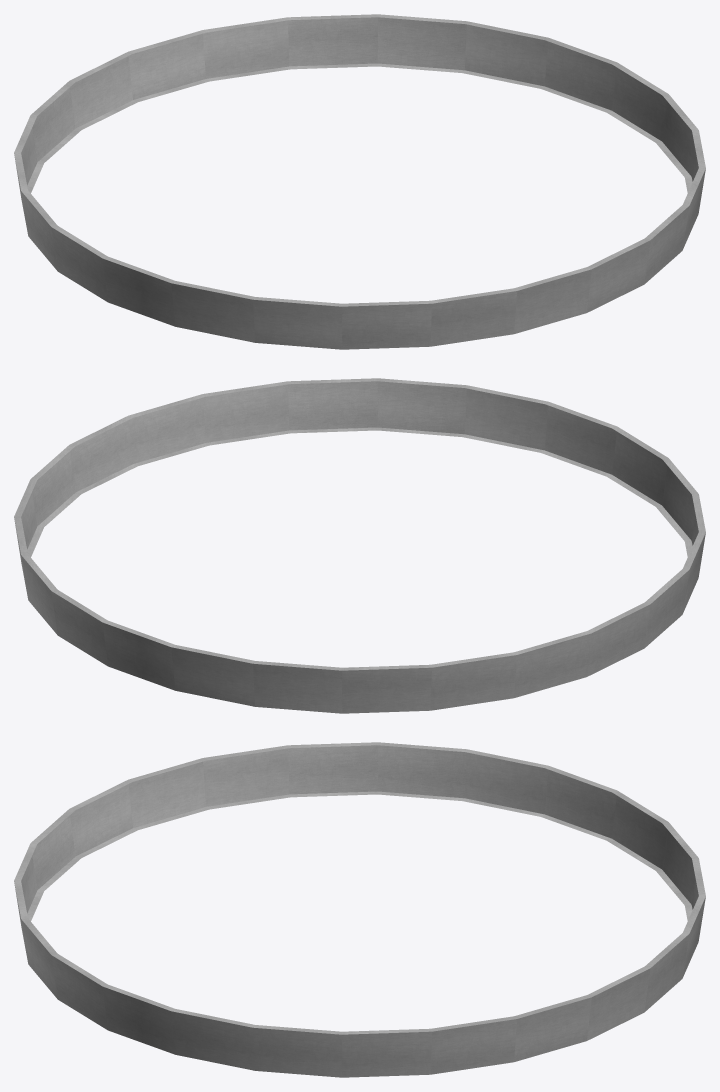
Rendered from original-9.obj.
The picture shows the model from 3 angles, top to bottom: view 1: azimuth 30°, elevation 25°; view 2: azimuth 150°, elevation 25°; view 3: azimuth 270°, elevation 25°; orthographic projection.
Visible parts, largest first — view 1: #ID75; view 2: #ID75; view 3: #ID75.
Boxes of the visible parts, x1,y1,x2,y2 form: #ID75: (14,14,705,349); #ID75: (14,378,705,713); #ID75: (14,742,705,1077).
Bounding box in the file's own units: 1.22 × 0.0899 × 1.22.
